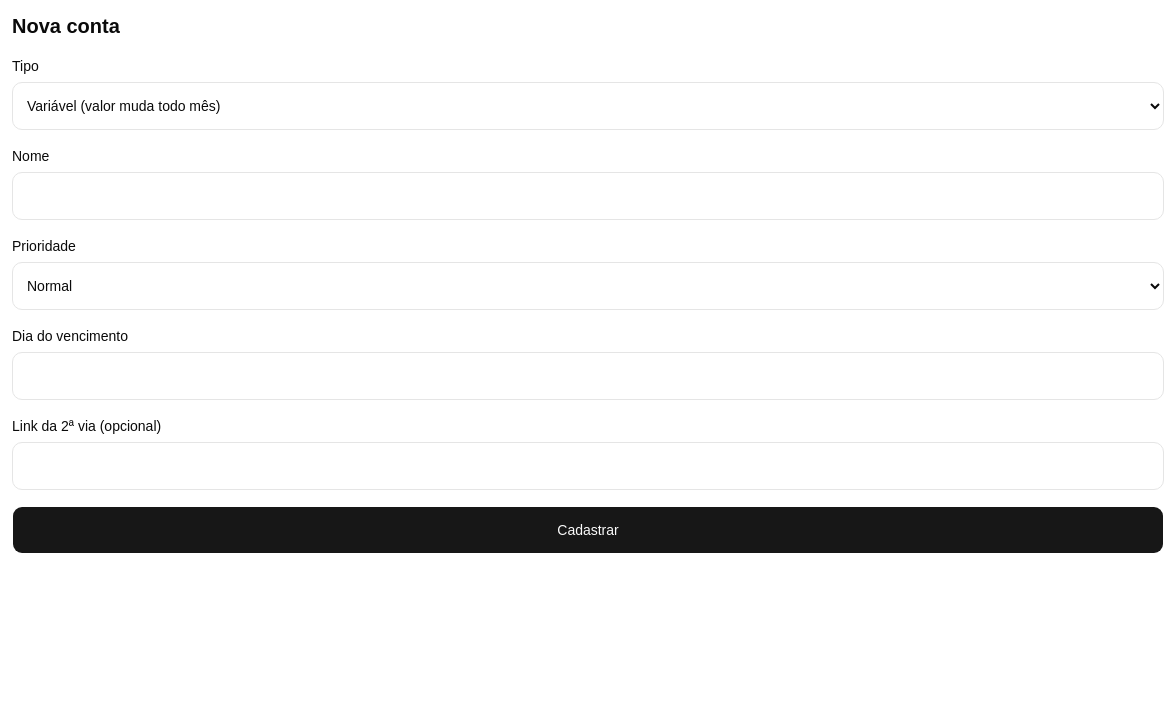
ContaForm › tipo PARCELADA mostra total de parcelas e primeira parcela
Select "Parcelada" in the dropdown labelled "Tipo" at (588, 106), box [12,82,1164,130]
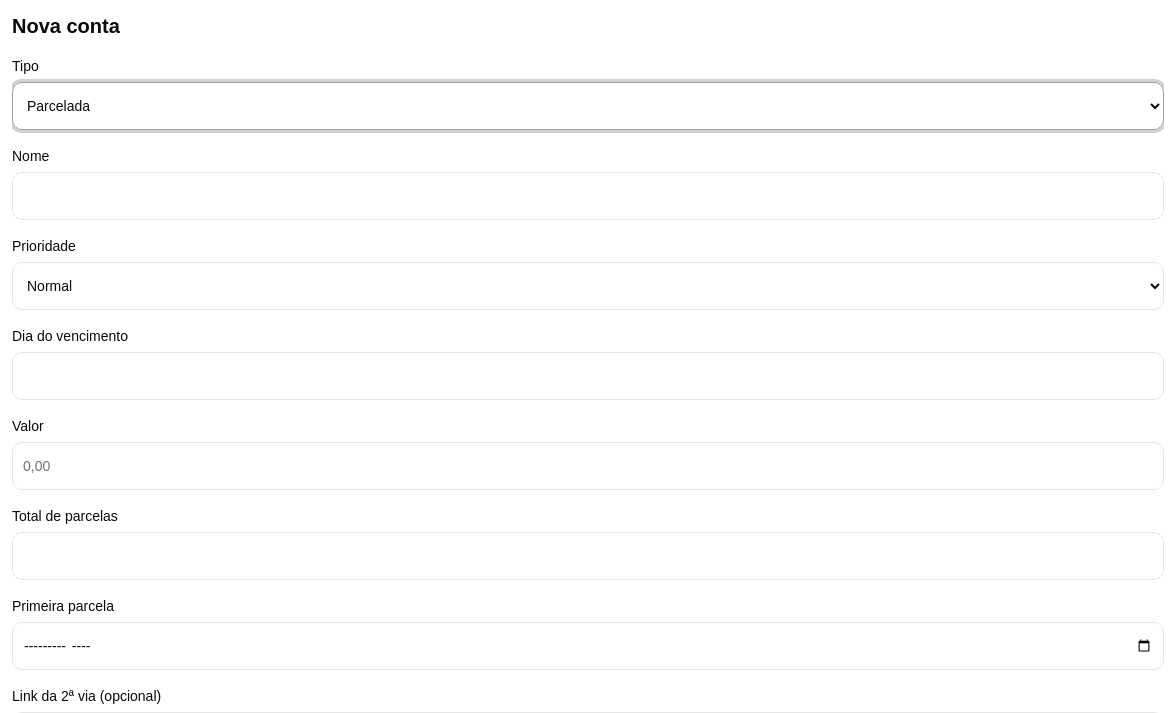
Now the field labelled "Valor" is shown, box [12,442,1164,490]
Now the number field labelled "Total de parcelas" is shown, box [12,532,1164,580]
Now the field labelled "Primeira parcela" is shown, box [12,622,1164,670]
